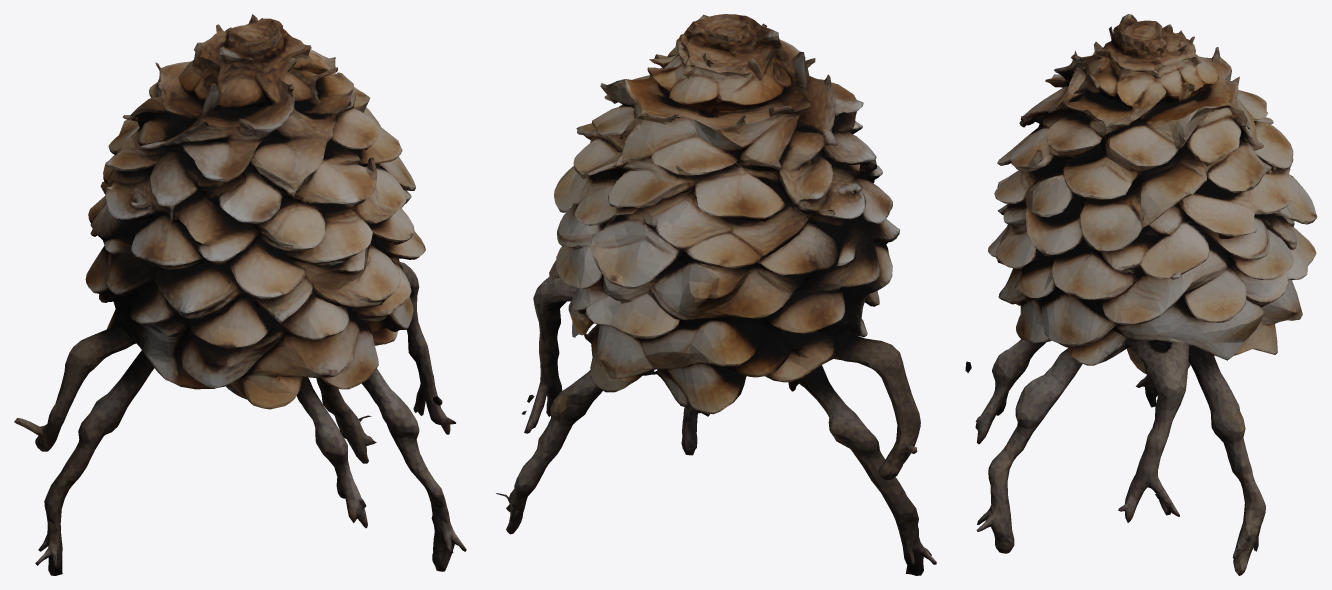
Rendered from 366a1dde-fc23-448e-b8ff-e24f05e47ffc copy.glb.
3 renders of one model, left to right at view 1: azimuth 30°, elevation 25°; view 2: azimuth 150°, elevation 25°; view 3: azimuth 270°, elevation 25°, orthographic. The views are drawn at different scales.
Parts seen in each view (by area): view 1: world; view 2: world; view 3: world.
Part boxes in pixels (x1,y1,x2,y2): world: (14,14,466,575); world: (496,14,936,575); world: (965,14,1317,575).
Size of the model in its own units: 0.8271 by 0.9987 by 0.6731.
1 material, 1 textured.
